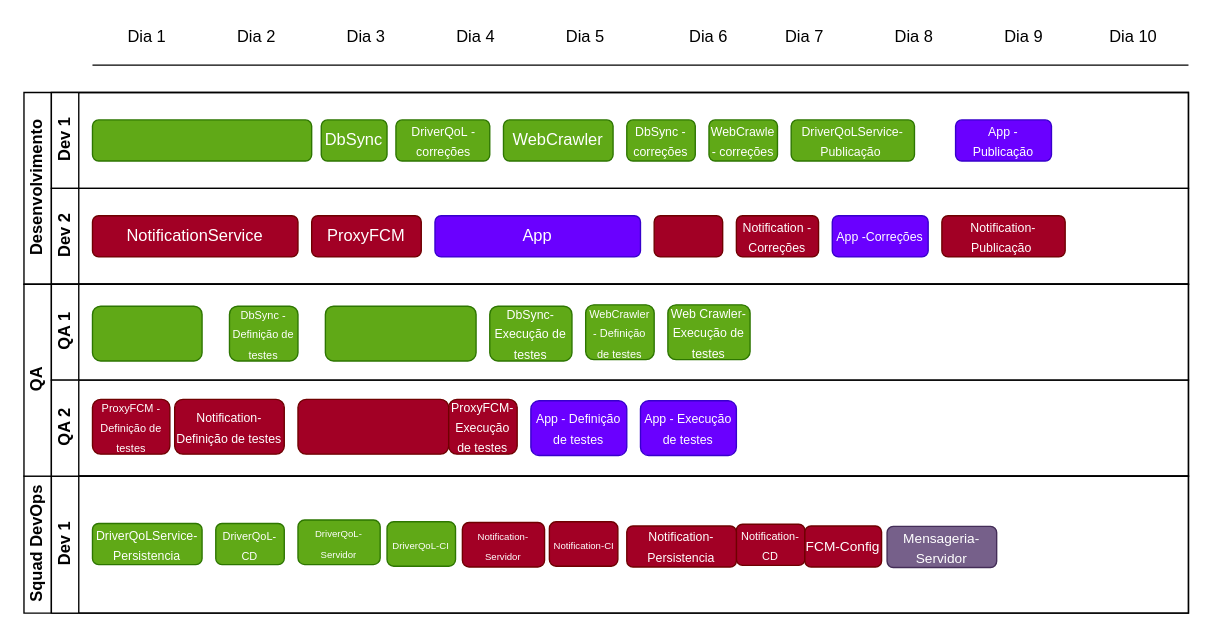
The diagram is 1214 pixels wide and 637 high, and some of its shapes have lost their labels. Each missing label, with the centre of its shape:
"DriverQoL - Execução de testes" belongs at point (400, 333).
"DriverQoL-Definição de testes" belongs at point (146, 333).
"DriverQoLService" belongs at point (201, 140).
"Notification - Execução de testes" belongs at point (373, 426).
"ProxyFCM- Correções" belongs at point (688, 235).
